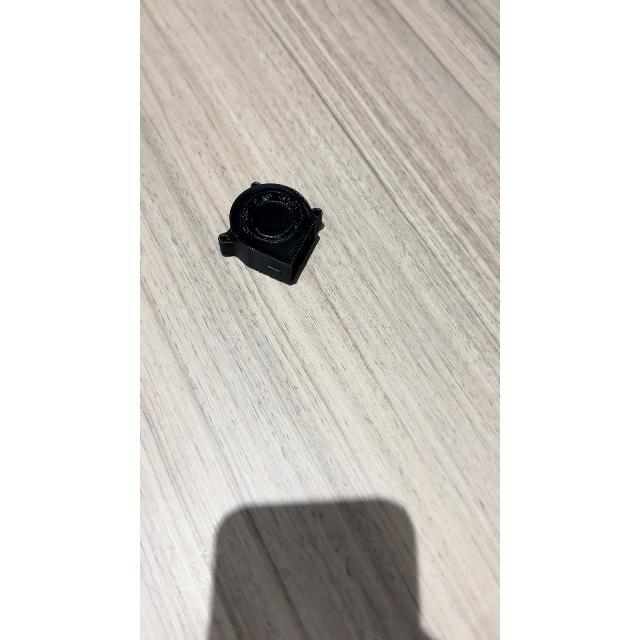Pieza3: (213, 170, 331, 294)
